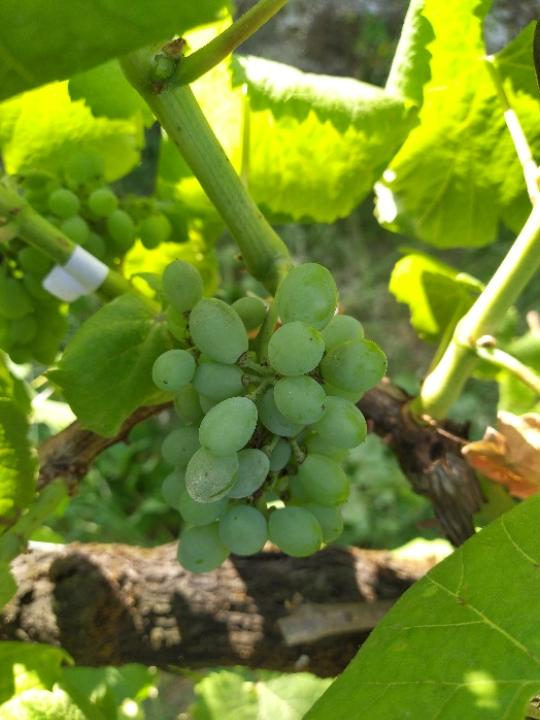grape: (150, 252, 392, 579)
